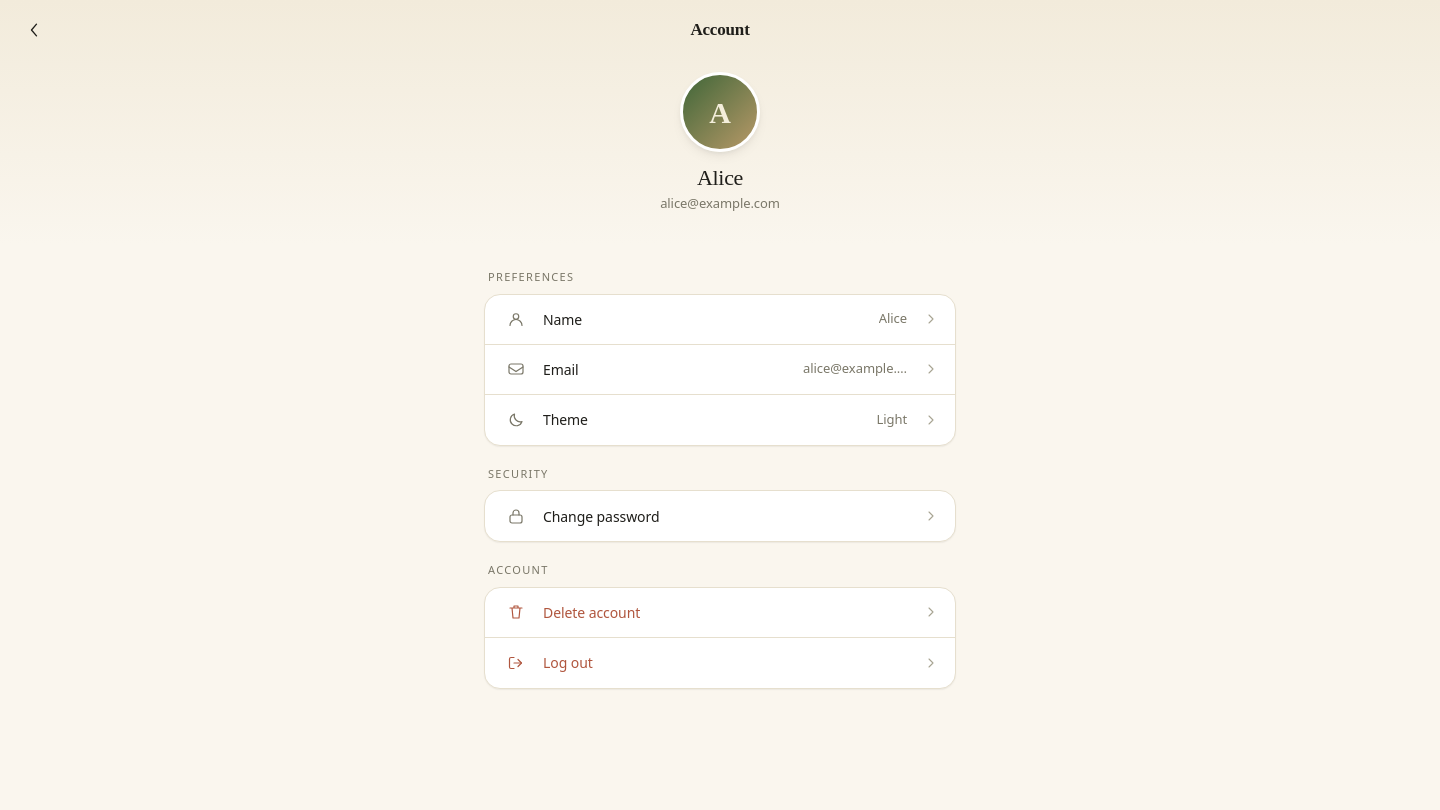
it: AccountPage › expands the change-password form when Change password is clicked
This screenshot has width=1440, height=810.
Click the button "Change password" at coordinates (601, 516), box x1=485 y1=491 x2=955 y2=541
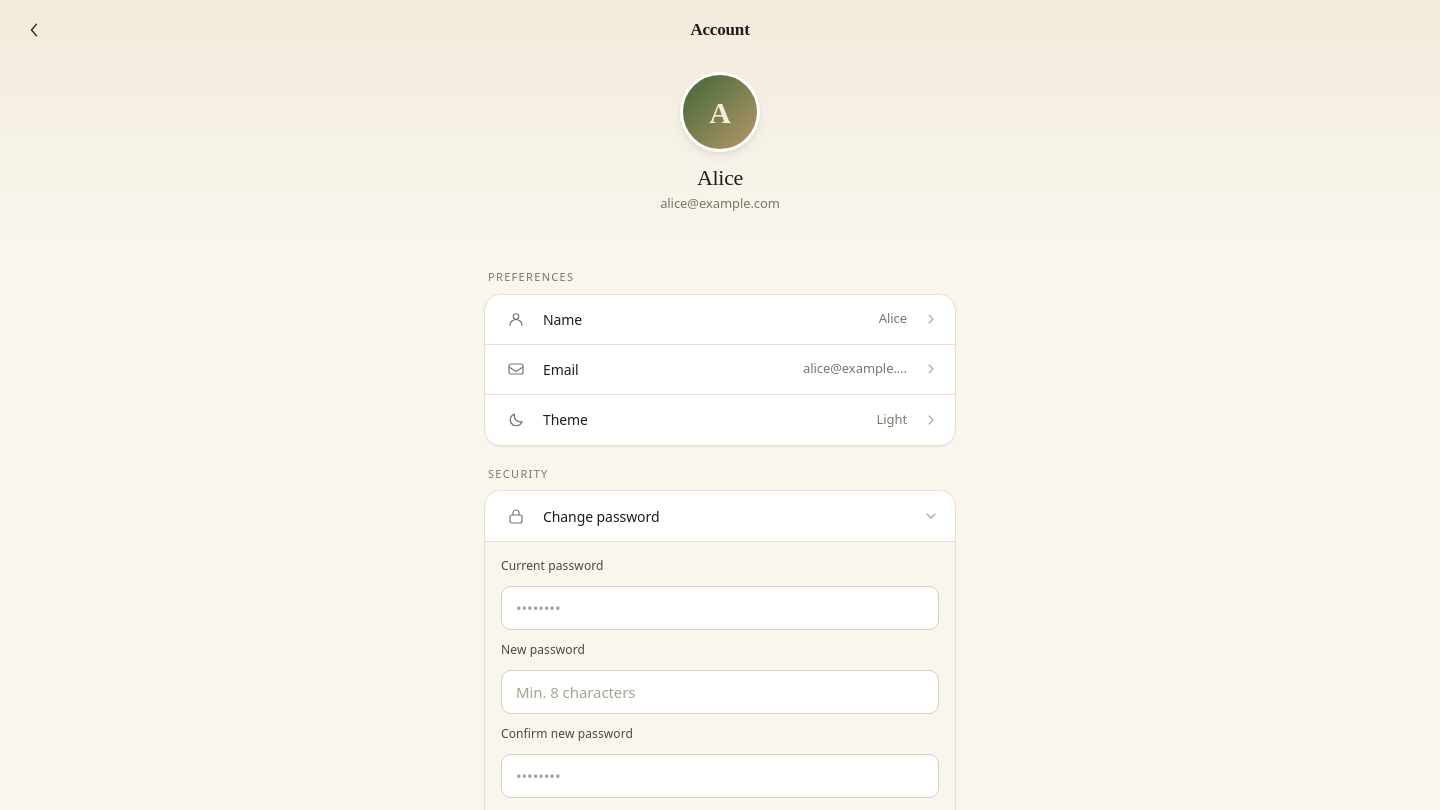
Expected: the password field labelled "Current password" is shown, x1=501 y1=586 x2=939 y2=630
Expected: the password field labelled "New password" is shown, x1=501 y1=670 x2=939 y2=714
Expected: the password field labelled "Confirm new password" is shown, x1=501 y1=754 x2=939 y2=798
